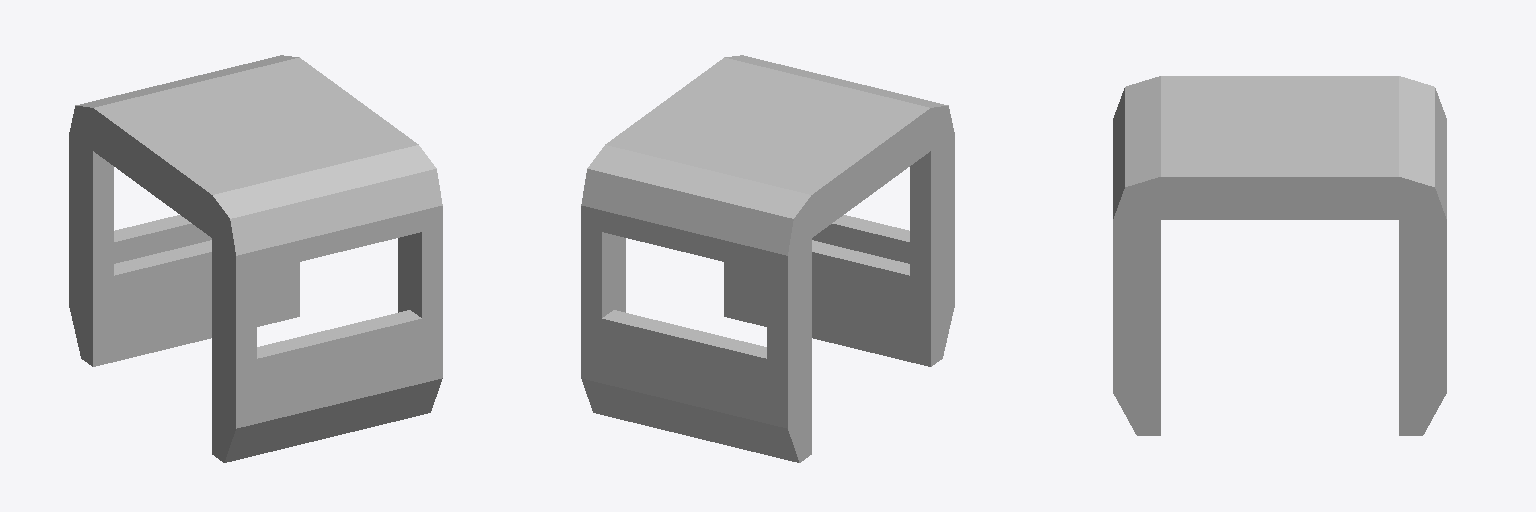
The model's file is cover-window.obj.
3 views of the same model, side by side, from view 1: azimuth 30°, elevation 25°; view 2: azimuth 150°, elevation 25°; view 3: azimuth 270°, elevation 25° (orthographic).
Visible parts, largest first — view 1: cover-window; view 2: cover-window; view 3: cover-window.
Boxes of the visible parts, x1=… form: cover-window: x1=69, y1=55, x2=442, y2=462; cover-window: x1=581, y1=55, x2=954, y2=462; cover-window: x1=1113, y1=76, x2=1446, y2=435.
Bounding box in the file's own units: 1 × 1.2 × 1.4.